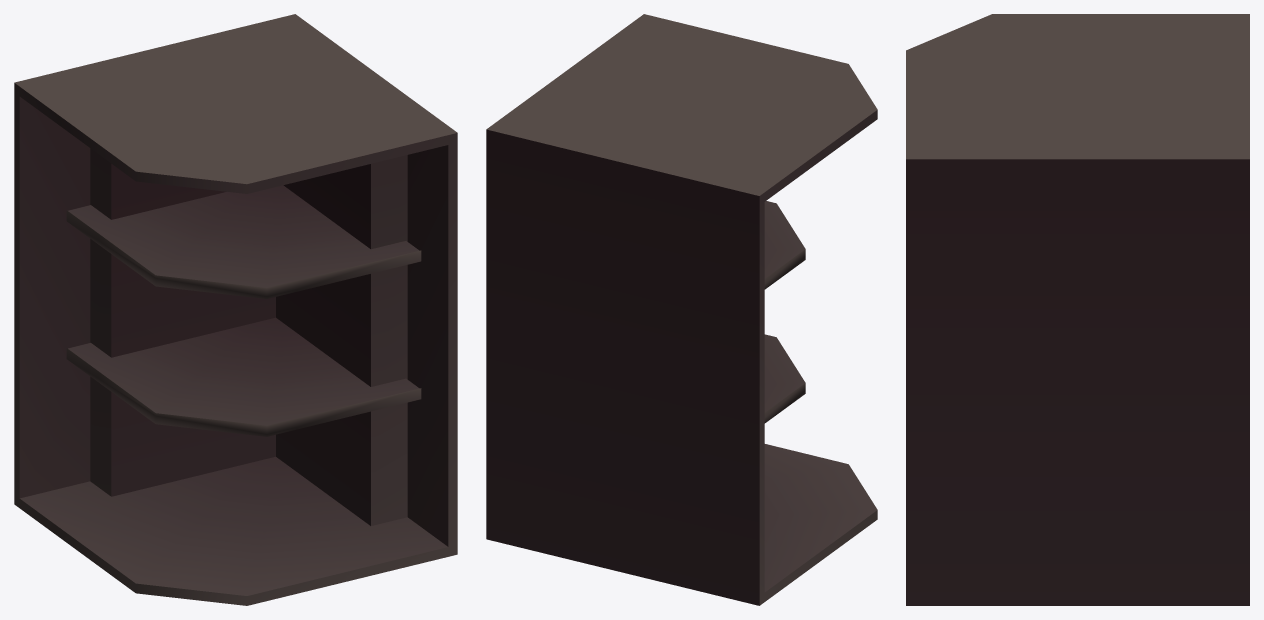
The model's file is TSP_Kitchen_Cabinet_Top_End_01B.fbx.
3 renders of one model, left to right at view 1: azimuth 30°, elevation 25°; view 2: azimuth 150°, elevation 25°; view 3: azimuth 270°, elevation 25°, orthographic. The views are drawn at different scales.
Parts seen in each view (by area): view 1: TSP_Kitchen_Cabinet_Top_End_01B; view 2: TSP_Kitchen_Cabinet_Top_End_01B; view 3: TSP_Kitchen_Cabinet_Top_End_01B.
Boxes of the visible parts, x1,y1,x2,y2 form: TSP_Kitchen_Cabinet_Top_End_01B: [14, 14, 457, 605]; TSP_Kitchen_Cabinet_Top_End_01B: [486, 14, 877, 605]; TSP_Kitchen_Cabinet_Top_End_01B: [906, 14, 1249, 605].
Size of the model in its own units: 0.5981 by 0.8572 by 0.5981.
